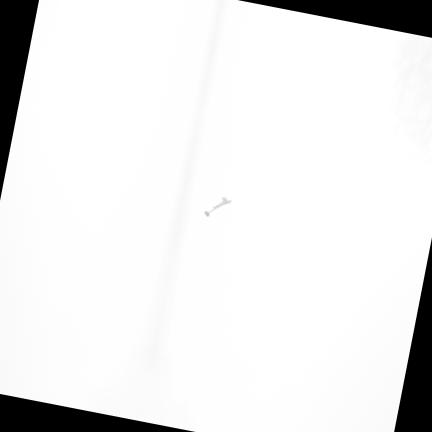Shahed: (202, 195, 232, 220)
